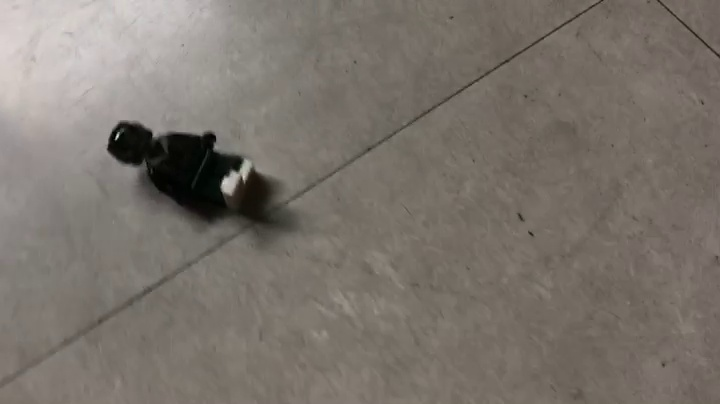people: (105, 120, 284, 223)
